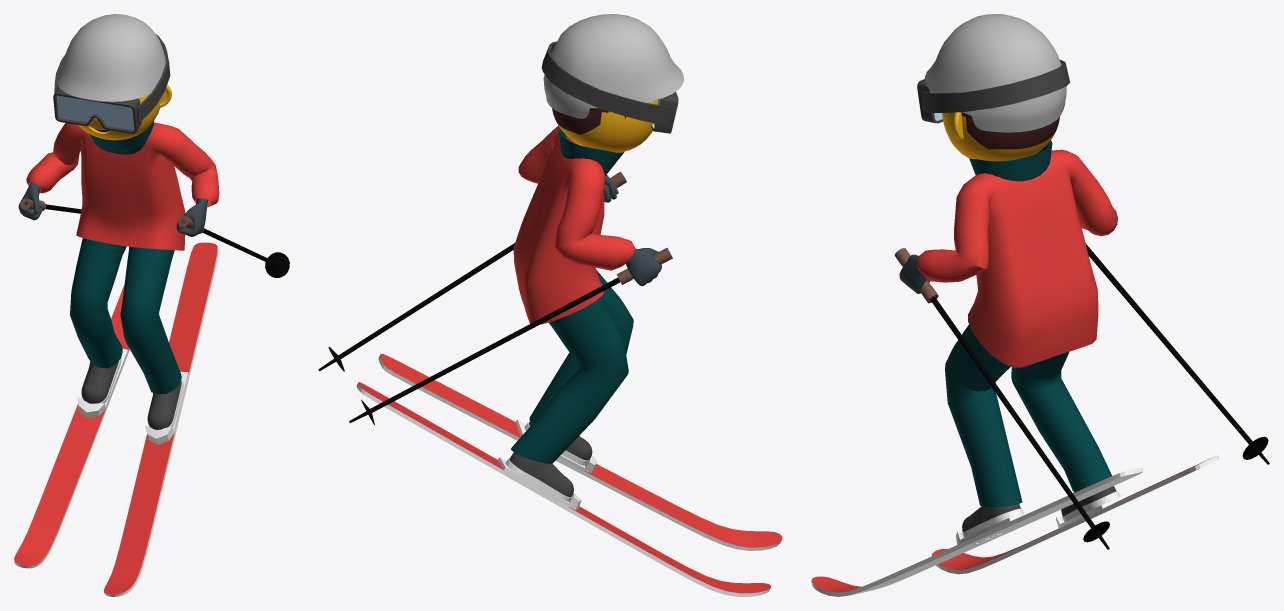
The model's file is skier.fbx.
The picture shows the model from 3 angles, left to right: view 1: azimuth 30°, elevation 25°; view 2: azimuth 150°, elevation 25°; view 3: azimuth 270°, elevation 25°; orthographic projection. The views are drawn at different scales.
Visible parts, largest first — view 1: Circle.078, Cube.254, Cube.252, Cube.253, Plane.019, Sphere.373, Sphere.022, Circle.079, Plane.020, Roundcube.450, Plane.018, Circle.082; view 2: Circle.078, Cube.252, Cube.254, Cube.253, Roundcube.450, Plane.020, Circle.082, Sphere.373, Circle.079, Plane.018, Sphere.022; view 3: Circle.078, Cube.252, Cube.254, Plane.020, Roundcube.450, Cube.253, Circle.079, Circle.082, Plane.018, Sphere.022, Sphere.373.
Part boxes in pixels (x1,y1,x2,y2): Circle.078: [18, 122, 219, 401]; Cube.254: [104, 242, 218, 596]; Cube.252: [57, 14, 165, 102]; Cube.253: [14, 284, 129, 568]; Plane.019: [53, 87, 141, 133]; Sphere.373: [80, 358, 121, 403]; Sphere.022: [147, 379, 183, 429]; Circle.079: [178, 216, 289, 277]; Plane.020: [54, 34, 170, 123]; Roundcube.450: [78, 94, 160, 140]; Plane.018: [90, 120, 154, 154]; Circle.082: [20, 198, 81, 213]; Circle.078: [511, 126, 661, 463]; Cube.252: [543, 14, 684, 118]; Cube.254: [378, 353, 782, 550]; Cube.253: [356, 382, 770, 596]; Roundcube.450: [552, 100, 658, 152]; Plane.020: [541, 41, 669, 124]; Circle.082: [349, 248, 672, 425]; Sphere.373: [505, 452, 573, 501]; Circle.079: [318, 171, 626, 371]; Plane.018: [558, 125, 624, 175]; Sphere.022: [524, 421, 592, 465]; Circle.078: [899, 149, 1117, 507]; Cube.252: [924, 14, 1066, 132]; Cube.254: [811, 468, 1142, 596]; Plane.020: [921, 59, 1070, 113]; Roundcube.450: [942, 112, 1059, 161]; Cube.253: [931, 455, 1218, 574]; Circle.079: [894, 248, 1109, 549]; Circle.082: [1085, 243, 1269, 464]; Plane.018: [969, 140, 1052, 181]; Sphere.022: [962, 504, 1023, 537]; Sphere.373: [1061, 486, 1119, 521].
Bounding box in the file's own units: 149 × 214 × 146.
Materials: 2 (2 with a texture image).
